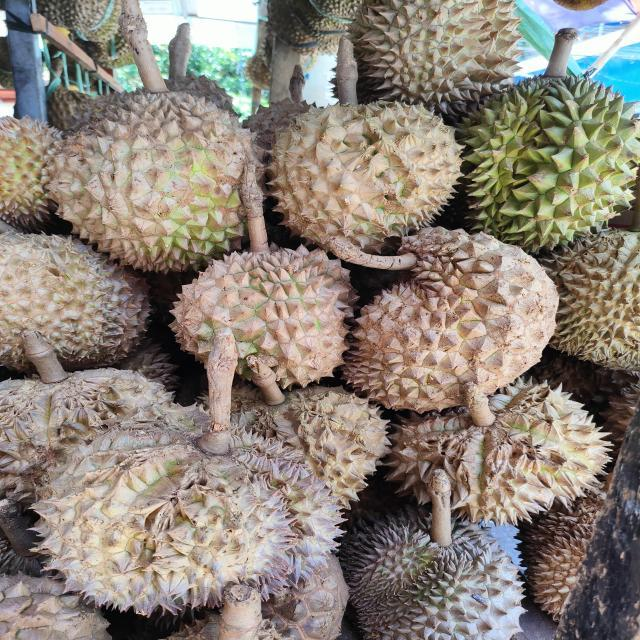mature: (34, 403, 348, 622), (341, 224, 560, 416), (41, 86, 259, 273), (378, 374, 614, 527), (268, 103, 468, 258), (162, 243, 362, 391), (336, 504, 528, 640)
